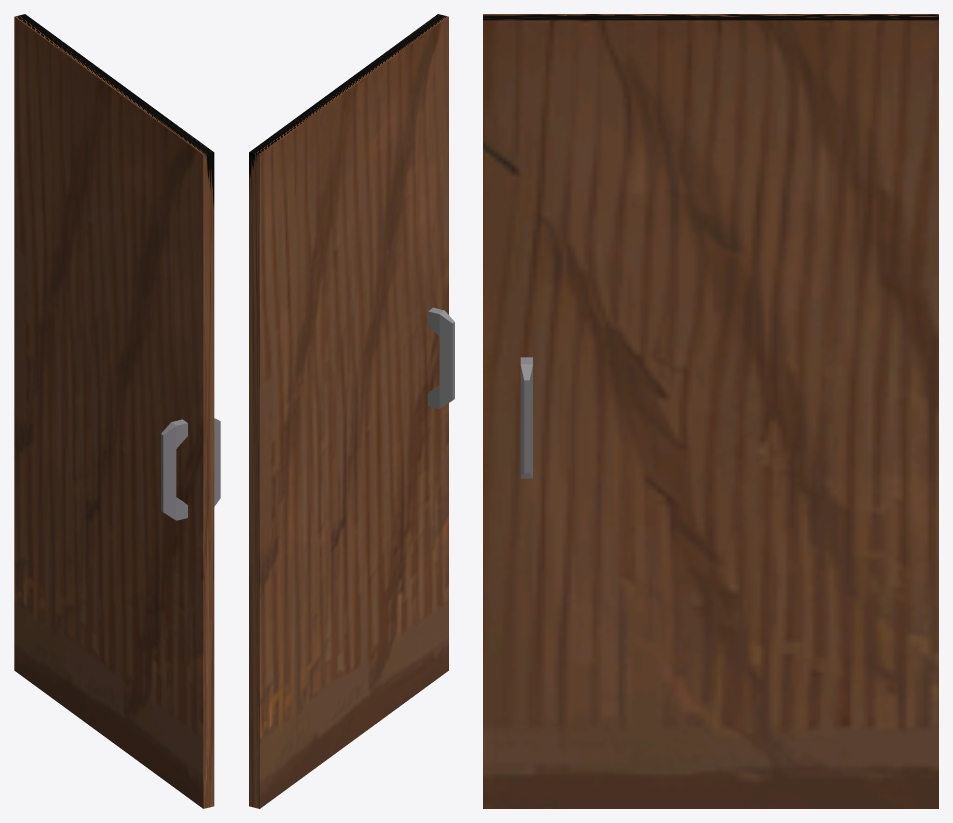
The model's file is Door3.glb.
The picture shows the model from 3 angles, left to right: view 1: azimuth 30°, elevation 25°; view 2: azimuth 150°, elevation 25°; view 3: azimuth 270°, elevation 25°; orthographic projection. The views are drawn at different scales.
Visible parts, largest first — view 1: Door3; view 2: Door3; view 3: Door3.
Part boxes in pixels (x1=…): Door3: x1=14, y1=14, x2=220, y2=808; Door3: x1=249, y1=14, x2=454, y2=808; Door3: x1=483, y1=14, x2=938, y2=808.
Bounding box in the file's own units: 21.18 × 231 × 121.
1 material, 1 textured.
